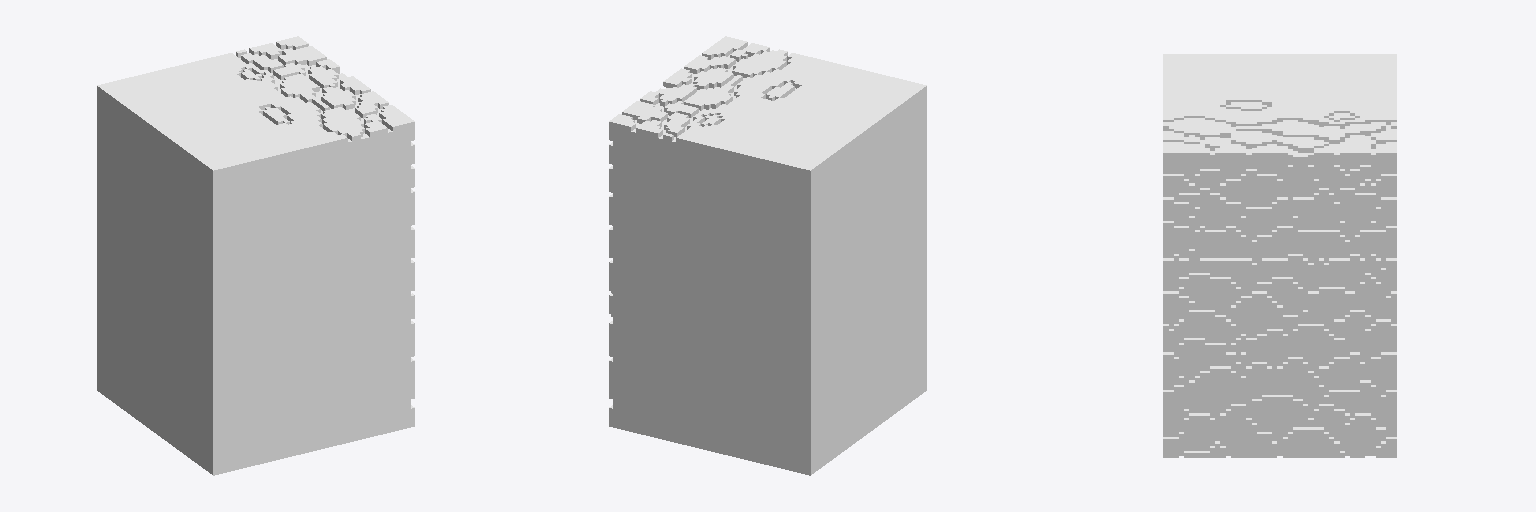
The model's file is ObsidianOneSide.obj.
3 renders of one model, left to right at view 1: azimuth 30°, elevation 25°; view 2: azimuth 150°, elevation 25°; view 3: azimuth 270°, elevation 25°, orthographic.
Size of the model in its own units: 45 by 65 by 45.